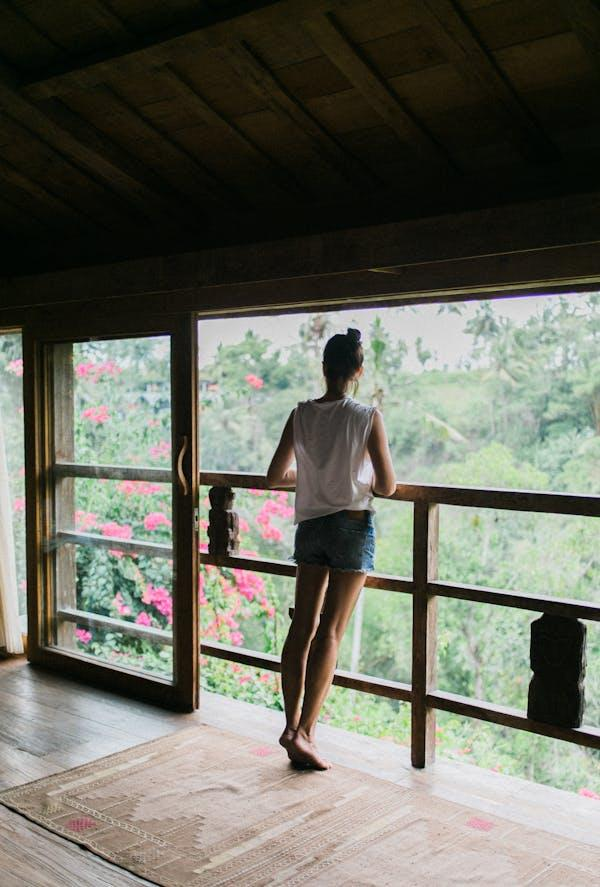Human: (256, 313, 439, 811)
